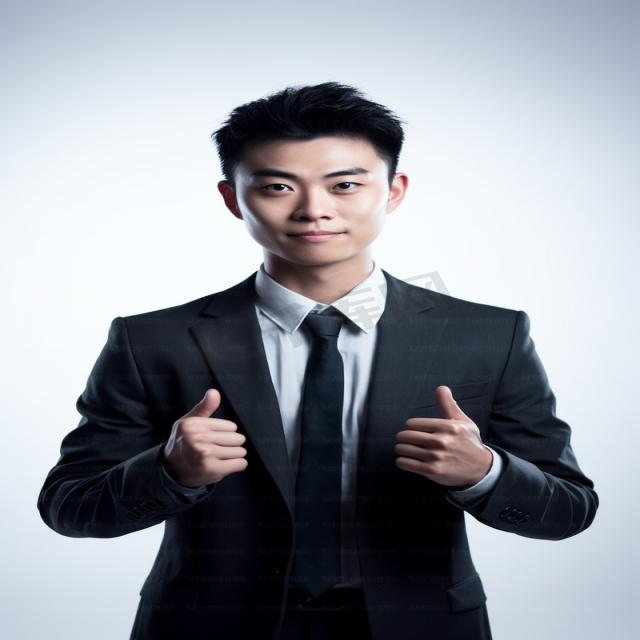stand: (109, 69, 500, 638)
